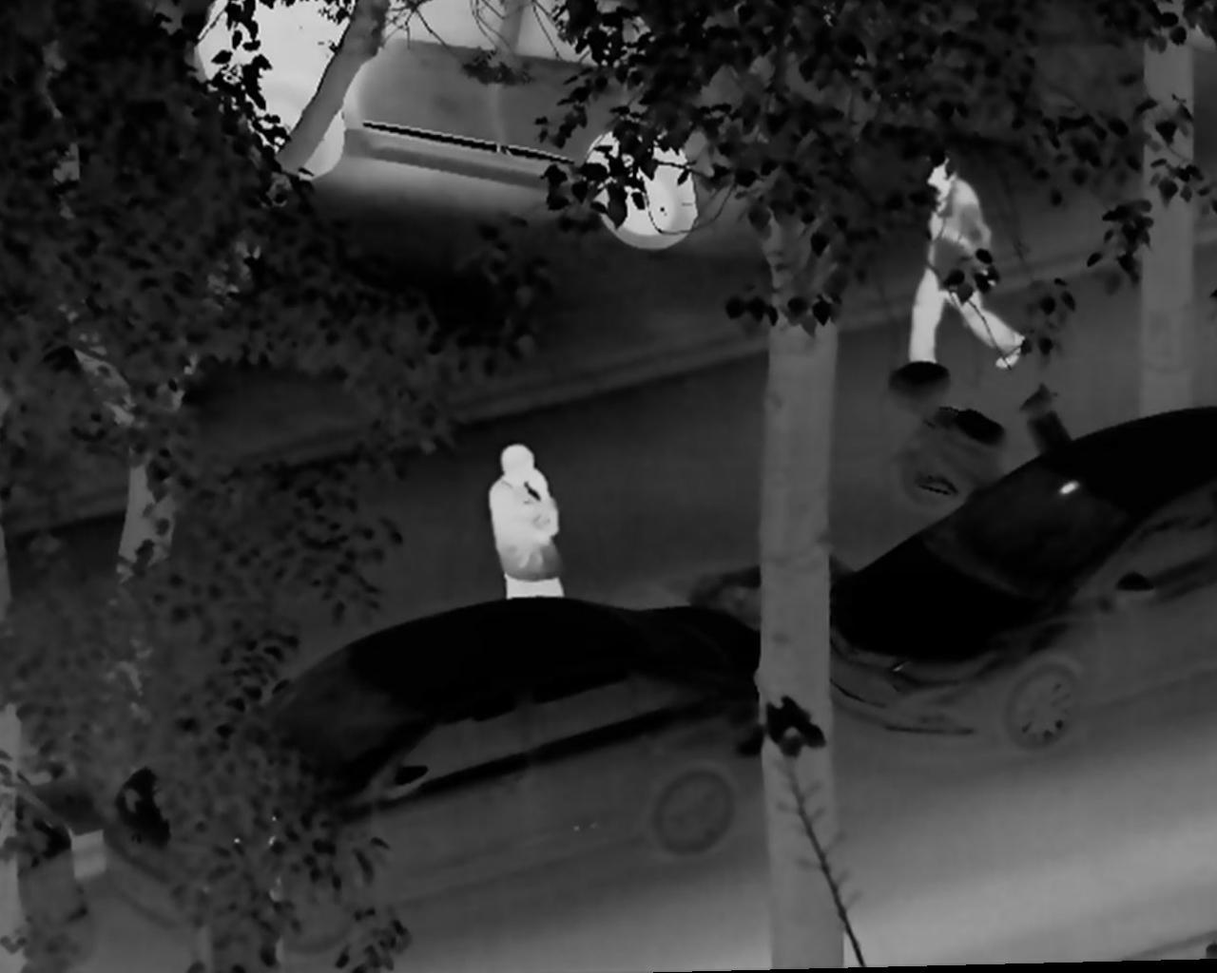person: (903, 157, 1027, 390), (473, 443, 573, 605)
